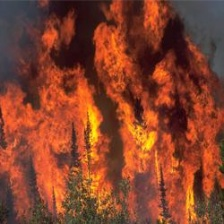fire: (76, 101, 102, 159), (125, 116, 159, 157), (80, 171, 108, 209)
